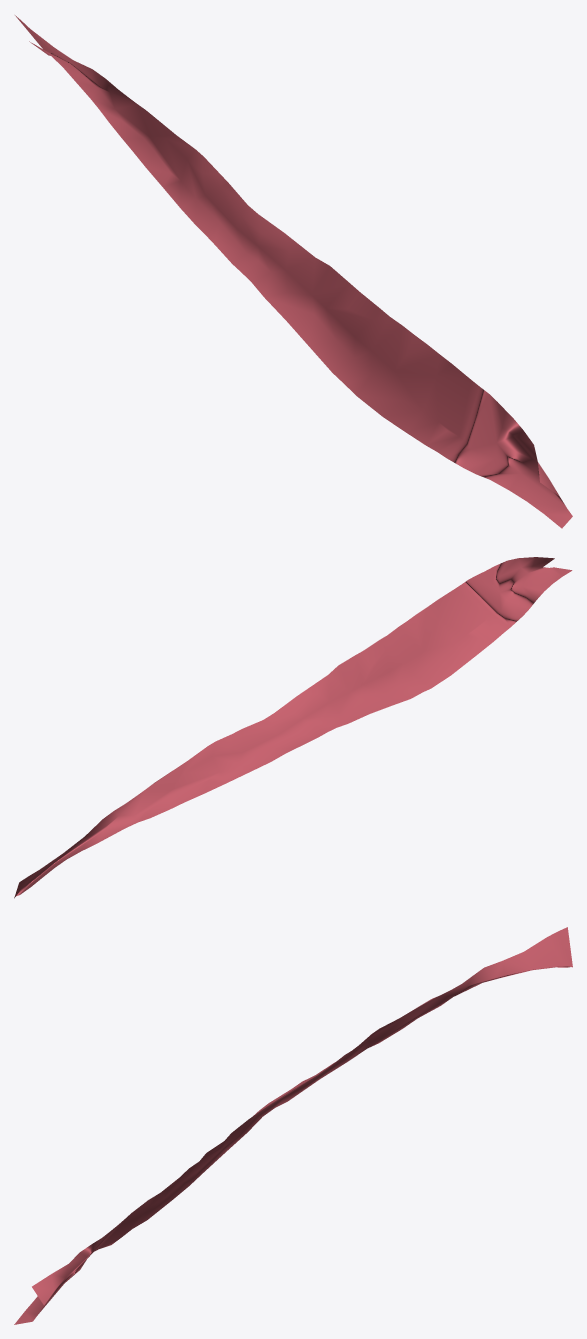
3 renders of one model, top to bottom at view 1: azimuth 30°, elevation 25°; view 2: azimuth 150°, elevation 25°; view 3: azimuth 330°, elevation 25°, orthographic. The views are drawn at different scales.
Parts seen in each view (by area): view 1: 右侧小腿前肌间隔; view 2: 右侧小腿前肌间隔; view 3: 右侧小腿前肌间隔.
Part boxes in pixels (bbox=[...]): 右侧小腿前肌间隔: bbox=[15, 15, 572, 528]; 右侧小腿前肌间隔: bbox=[14, 557, 572, 898]; 右侧小腿前肌间隔: bbox=[14, 927, 572, 1324].
Size of the model in its own units: 0.0417 by 0.03 by 0.429.
